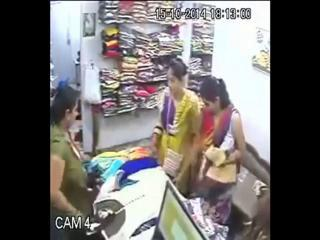Normal: (186, 77, 272, 236), (152, 57, 204, 190), (50, 84, 92, 216)
